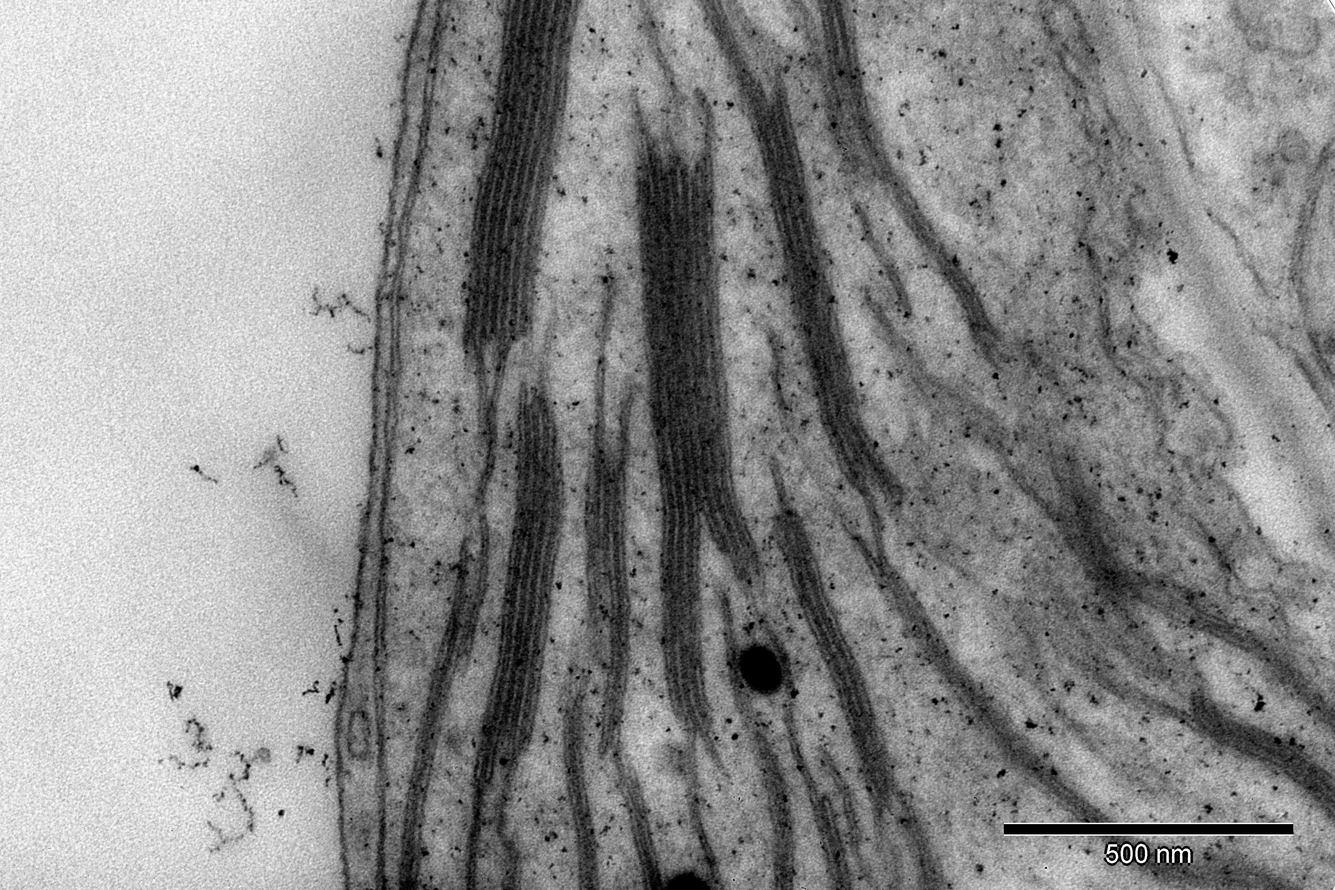granum: (625, 151, 762, 734), (735, 80, 893, 501), (456, 1, 590, 354), (763, 500, 905, 813), (468, 397, 574, 771), (1040, 484, 1204, 633), (1178, 679, 1334, 833), (811, 0, 903, 184), (577, 445, 638, 622), (1145, 835, 1314, 888), (431, 586, 490, 661)
